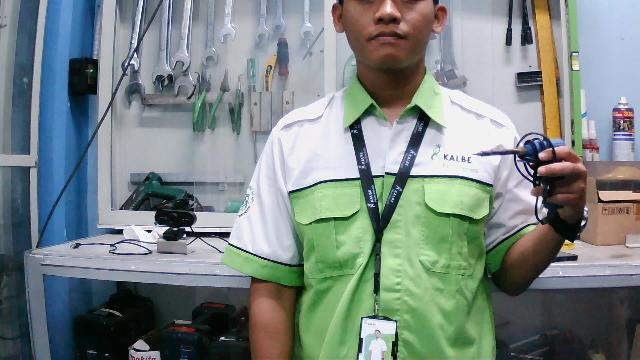solder_electrical: (472, 129, 572, 228)
